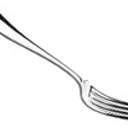Fork: (1, 12, 128, 120)
